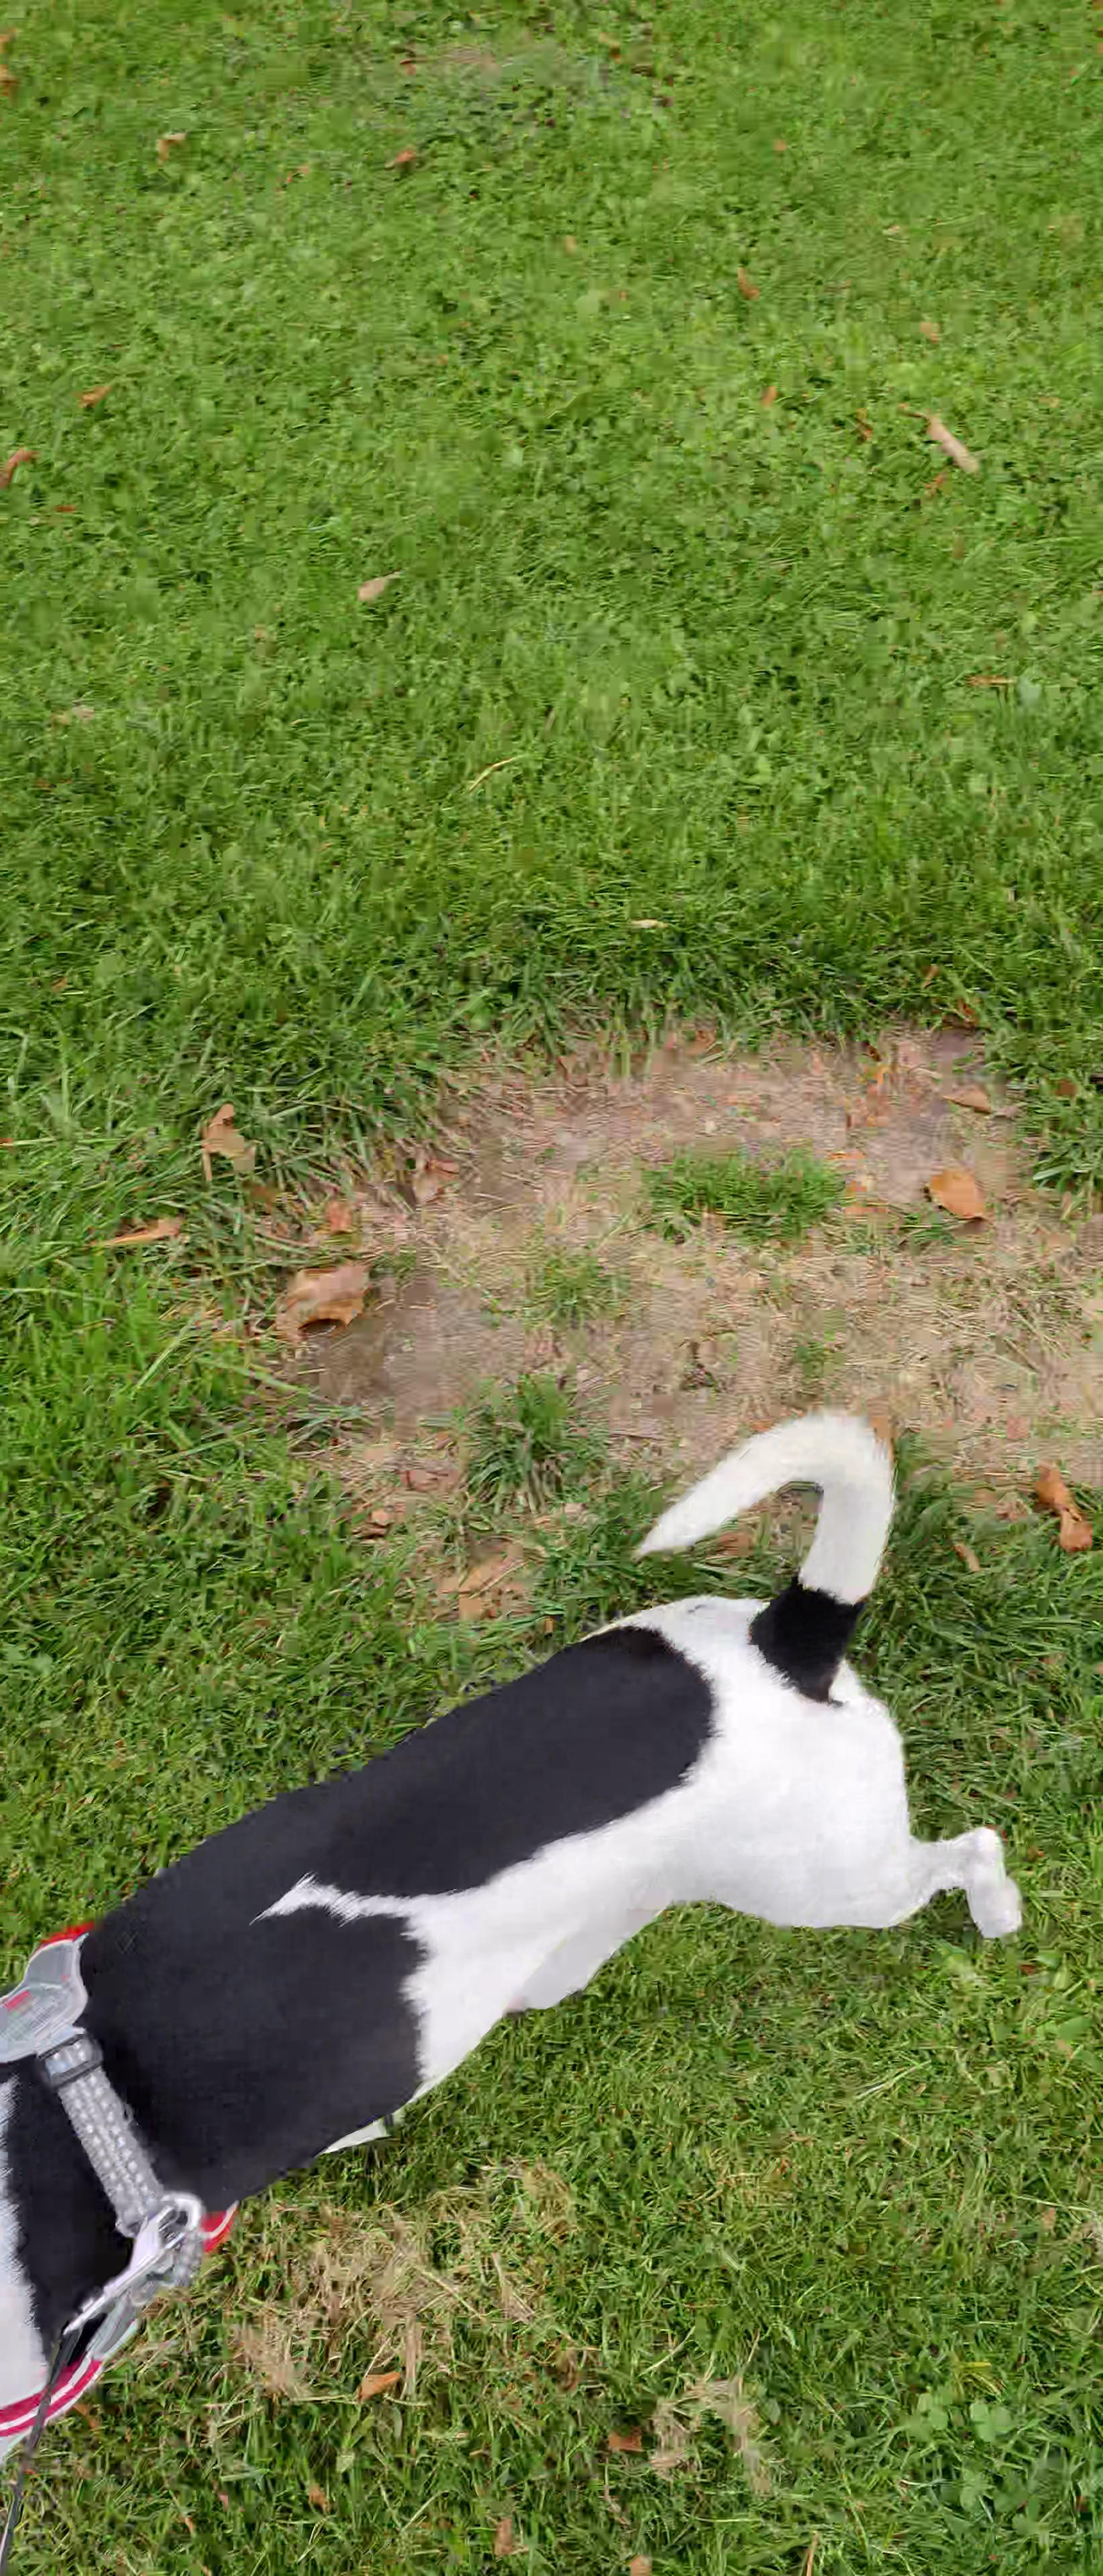Dog: (0, 1378, 1049, 2550)
